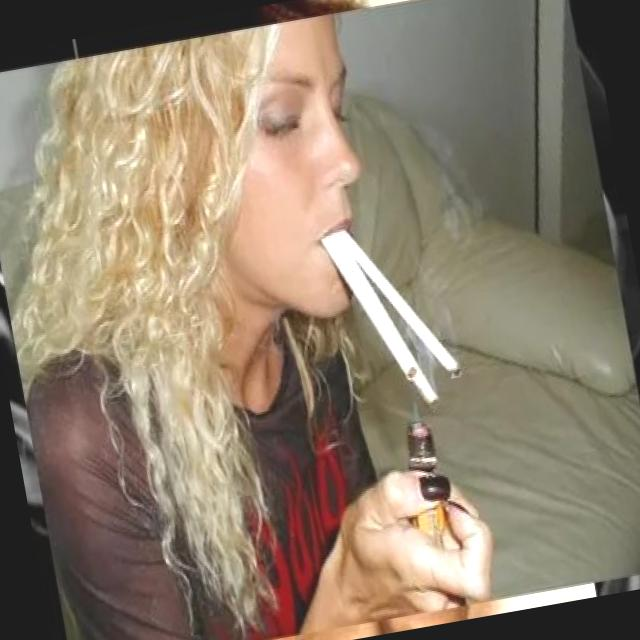smoke: (312, 204, 473, 427)
